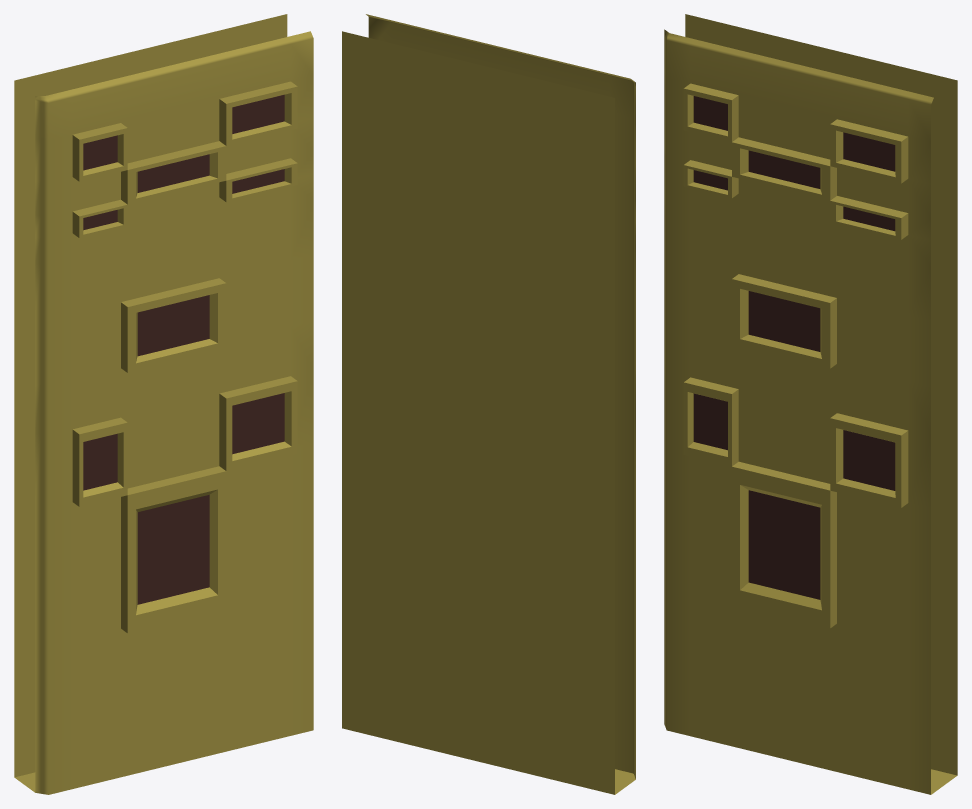
File: Door.fbx
3 views of the same model, side by side, from view 1: azimuth 30°, elevation 25°; view 2: azimuth 150°, elevation 25°; view 3: azimuth 330°, elevation 25° (orthographic).
Visible parts, largest first — view 1: Walls.000; view 2: Walls.000; view 3: Walls.000.
Part boxes in pixels (bbox=[...]): Walls.000: bbox=[14, 14, 313, 794]; Walls.000: bbox=[342, 14, 635, 794]; Walls.000: bbox=[664, 14, 957, 794].
Size of the model in its own units: 534 by 1303 by 113.
